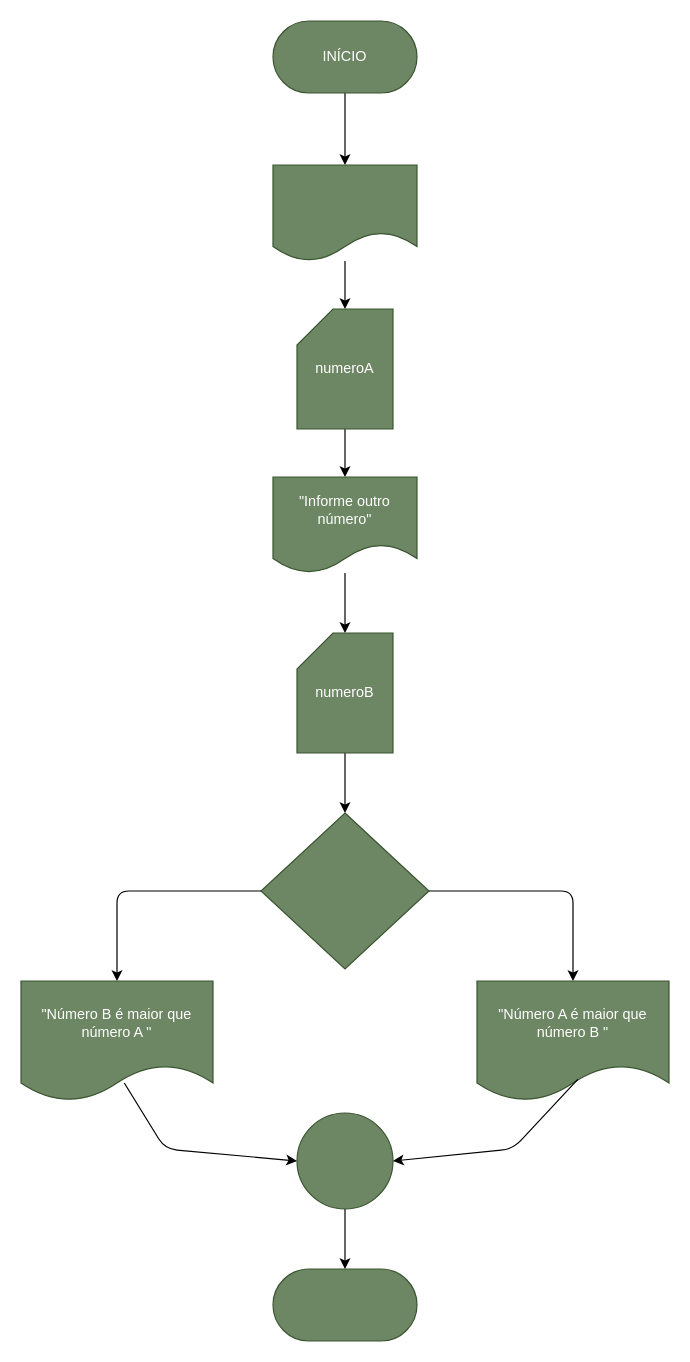
This 690x1362 diagram has some shape labels left out. Each missing label, with the centre of its shape:
"Informe um número": the point at 344,212
FIM: the point at 344,1304
numeroA >= numeroB: the point at 344,890
